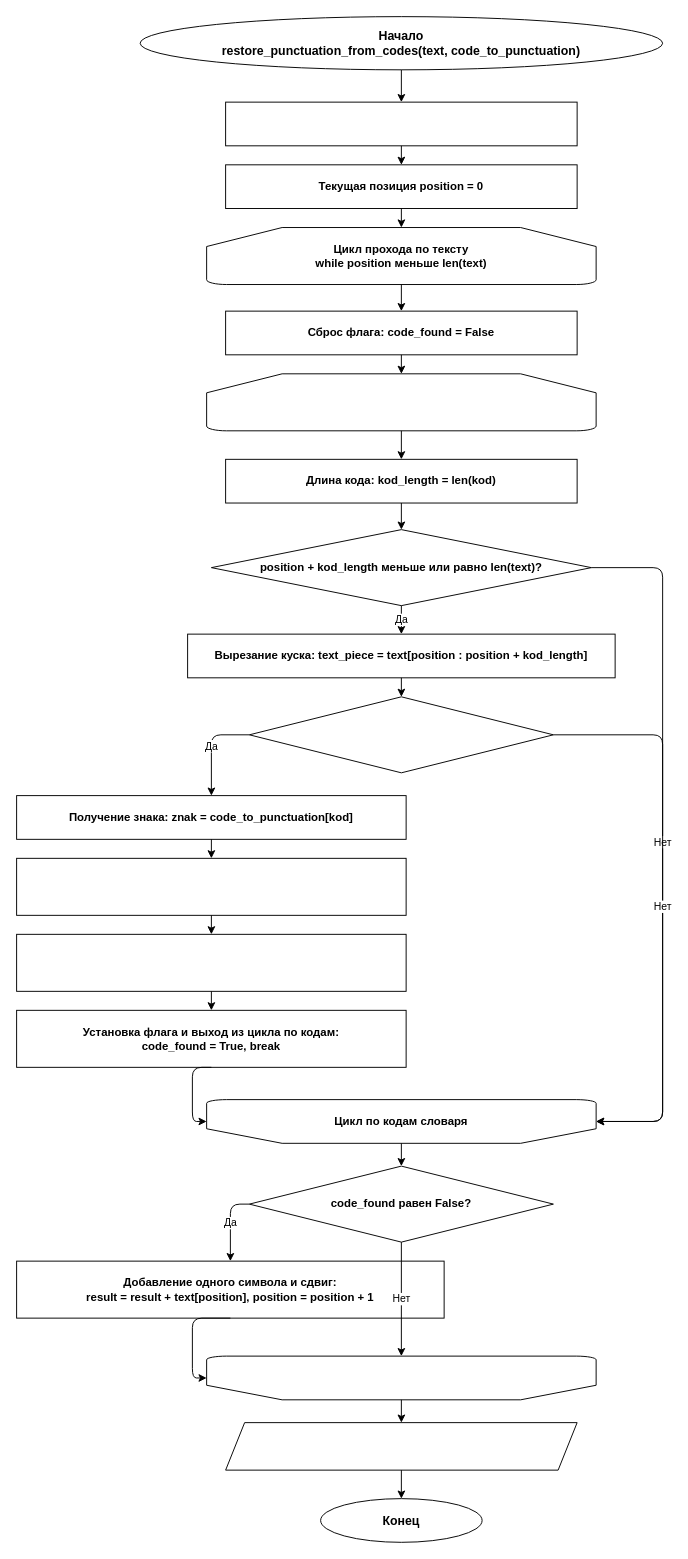
This 688x1559 diagram has some shape labels left out. The shapes that lost their labels are listed below. From the top down, each one's centre as x and y in pixels, then its label:
At pixel 401 123: "Создание пустой строки result".
At pixel 401 402: "Цикл по кодам словаря for kod in code_to_punctuation".
At pixel 400 734: "text_piece равен kod?".
At pixel 211 886: "Добавление знака к result: result = result + znak".
At pixel 211 962: "Сдвиг позиции: position = position + kod_length".
At pixel 401 1377: "Цикл прохода по тексту".
At pixel 401 1446: "Возврат строки result".
